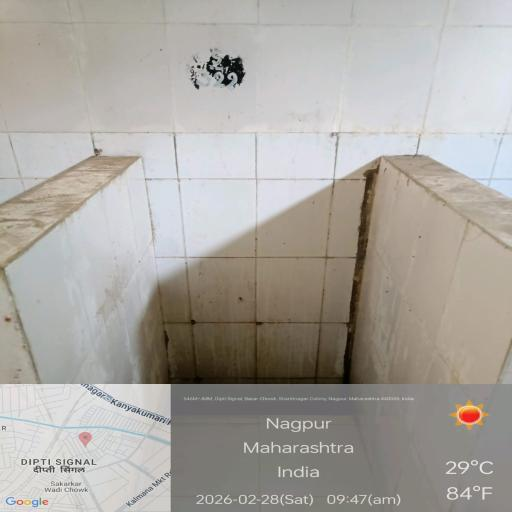clean_floor: (88, 107, 424, 512)
